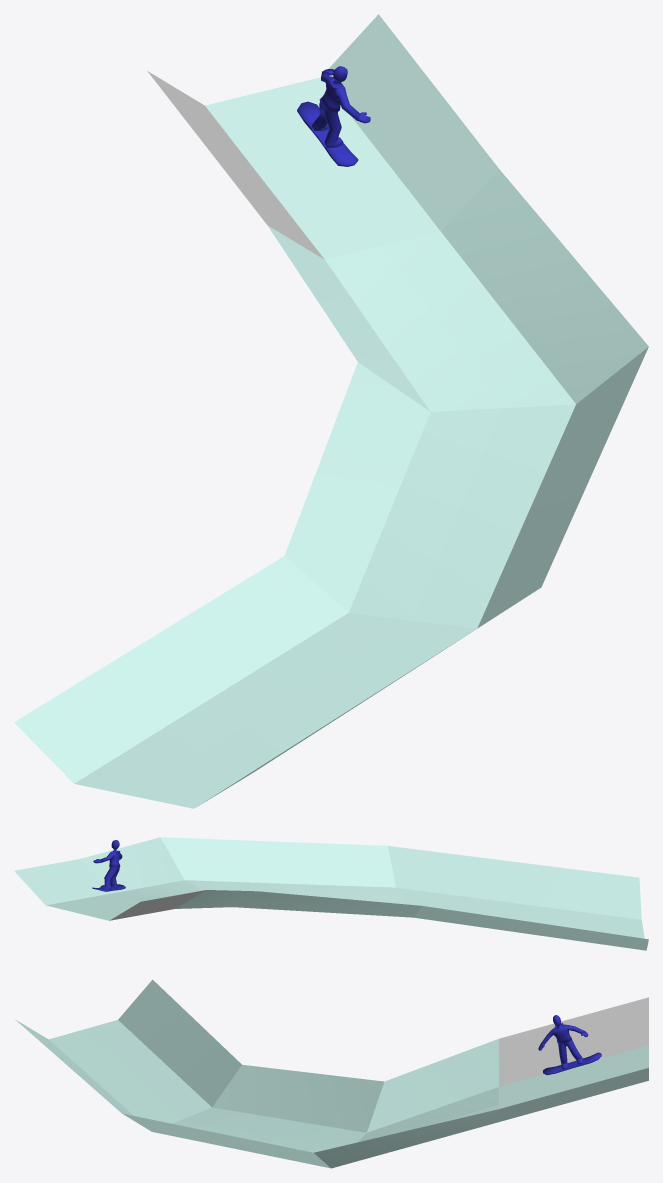
File: percurso.dae
The picture shows the model from 3 angles, top to bottom: view 1: azimuth 30°, elevation 25°; view 2: azimuth 150°, elevation 25°; view 3: azimuth 270°, elevation 25°; orthographic projection. The views are drawn at different scales.
Parts seen in each view (by area): view 1: percurso15, percurso3, percurso5, percurso10, percurso4, percurso13, percurso16, percurso8, percurso12, percurso2, percurso14, percurso9 (+4 smaller); view 2: percurso7, percurso14, percurso16, percurso3, percurso15, percurso5, percurso10, percurso4, percurso11, percurso12, percurso6, percurso1 (+3 smaller); view 3: percurso5, percurso15, percurso6, percurso11, percurso8, percurso16, percurso13, percurso3, percurso9, percurso14, percurso10, percurso2 (+4 smaller).
Part boxes in pixels (<box>): percurso15: <box>14,556,348,783</box>; percurso3: <box>441,169,648,403</box>; percurso5: <box>284,362,430,612</box>; percurso10: <box>325,14,498,231</box>; percurso4: <box>413,404,575,628</box>; percurso13: <box>349,408,502,620</box>; percurso16: <box>134,620,476,808</box>; percurso8: <box>74,613,412,796</box>; percurso12: <box>383,232,575,407</box>; percurso2: <box>325,246,502,411</box>; percurso14: <box>477,347,648,628</box>; percurso9: <box>205,91,382,259</box>; percurso7: <box>387,846,641,919</box>; percurso14: <box>160,837,396,887</box>; percurso16: <box>396,887,643,935</box>; percurso3: <box>80,837,184,893</box>; percurso15: <box>414,906,648,950</box>; percurso5: <box>233,891,421,917</box>; percurso10: <box>14,859,110,905</box>; percurso4: <box>185,880,404,902</box>; percurso11: <box>175,890,256,908</box>; percurso12: <box>112,880,202,901</box>; percurso6: <box>109,890,205,920</box>; percurso1: <box>46,893,142,912</box>; percurso5: <box>212,1064,383,1132</box>; percurso15: <box>118,979,241,1106</box>; percurso6: <box>499,997,648,1086</box>; percurso11: <box>367,1039,498,1132</box>; percurso8: <box>83,1020,211,1119</box>; percurso16: <box>49,1029,181,1123</box>; percurso13: <box>182,1107,366,1147</box>; percurso3: <box>314,1109,498,1168</box>; percurso9: <box>499,1045,648,1104</box>; percurso14: <box>122,1113,330,1168</box>; percurso10: <box>499,1068,648,1121</box>; percurso2: <box>358,1087,498,1142</box>.
Size of the model in its own units: 210 by 243 by 81.12.
